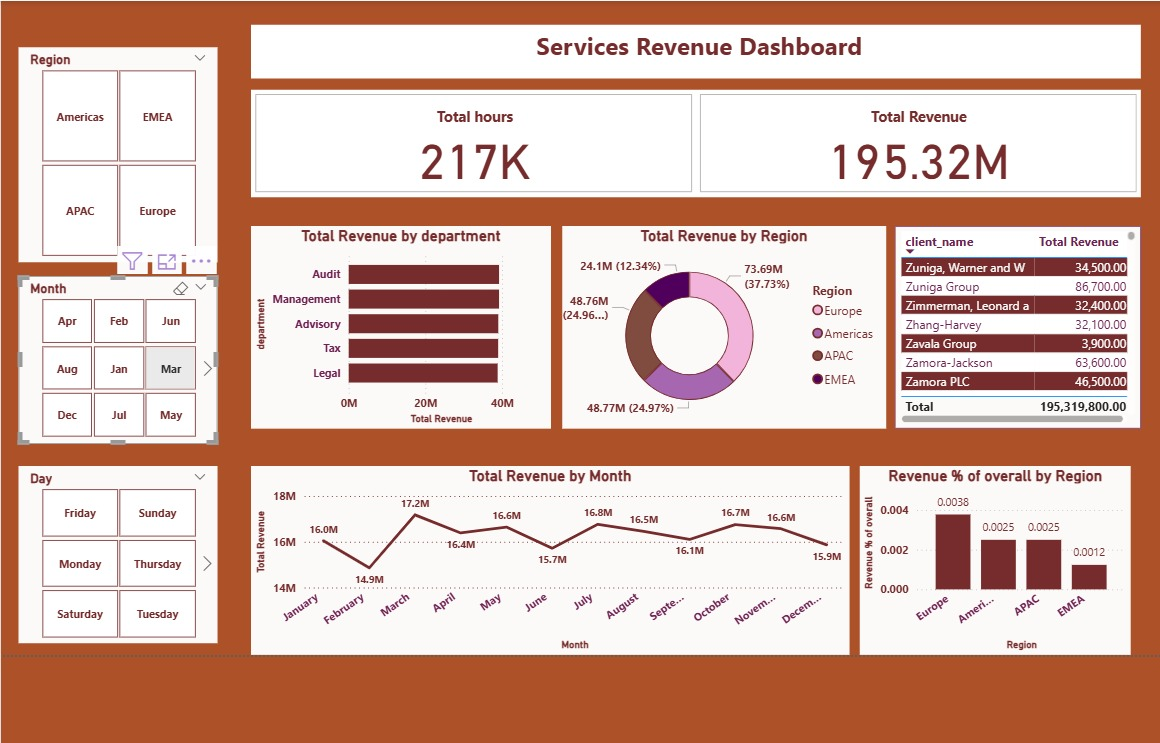

What the dashboard file says about the page in this screenshot:
{"tool":"powerbi","page":{"name":"Page 1","canvas":[1280,720],"ordinal":0},"visuals":[{"type":"slicer","fields":{"Values":["Table Data.Month"]},"box":[19.2,303.3,219.6,183.9],"z":0},{"type":"slicer","fields":{"Values":["Table Data.Day"]},"box":[19.3,512.1,218.9,195.5],"z":1000},{"type":"cardVisual","fields":{"Data":["All Measures.Total hours","All Measures.Total Revenue"]},"box":[275.3,97.7,980.2,118.4],"z":2000},{"type":"lineChart","fields":{"Y":["All Measures.Total Revenue"],"Category":["Table Data.Date.Variation.Date Hierarchy.Year","Table Data.Date.Variation.Date Hierarchy.Quarter","Table Data.Date.Variation.Date Hierarchy.Month","Table Data.Date.Variation.Date Hierarchy.Day"]},"box":[275.3,512.1,659.4,207.9],"z":3000},{"type":"barChart","fields":{"Y":["All Measures.Total Revenue"],"Category":["Services_data.department"]},"box":[275.3,247.8,330.4,223],"z":4000},{"type":"tableEx","fields":{"Values":["Services_data.client_name","All Measures.Total Revenue"]},"box":[984.3,247.8,271.2,223],"z":5000},{"type":"columnChart","fields":{"Y":["All Measures.Revenue % of overall"],"Category":["Branch_data (2).Region"]},"box":[945.8,512.1,298.7,207.9],"z":6000},{"type":"donutChart","fields":{"Category":["Branch_data (2).Region"],"Y":["All Measures.Total Revenue"]},"box":[618.1,247.8,356.6,223],"z":7000},{"type":"slicer","fields":{"Values":["Branch_data (2).Region"]},"box":[19.3,50.9,218.9,236.8],"z":8000},{"type":"textbox","box":[275.3,26.2,980.2,59.2],"z":9000}]}

Visuals, with their boxes in screenshot pixels (x1, y1, x2, y2):
slicer - Table Data.Month: x1=20, y1=274, x2=216, y2=438
slicer - Table Data.Day: x1=20, y1=461, x2=216, y2=635
cardVisual - All Measures.Total hours x All Measures.Total Revenue: x1=249, y1=90, x2=1125, y2=196
lineChart - All Measures.Total Revenue x Table Data.Date.Variation.Date Hierarchy.Year: x1=249, y1=461, x2=838, y2=646
barChart - All Measures.Total Revenue x Services_data.department: x1=249, y1=224, x2=544, y2=424
tableEx - Services_data.client_name x All Measures.Total Revenue: x1=883, y1=224, x2=1125, y2=424
columnChart - All Measures.Revenue % of overall x Branch_data (2).Region: x1=848, y1=461, x2=1115, y2=646
donutChart - Branch_data (2).Region x All Measures.Total Revenue: x1=555, y1=224, x2=874, y2=424
slicer - Branch_data (2).Region: x1=20, y1=49, x2=216, y2=260
textbox: x1=249, y1=26, x2=1125, y2=79
